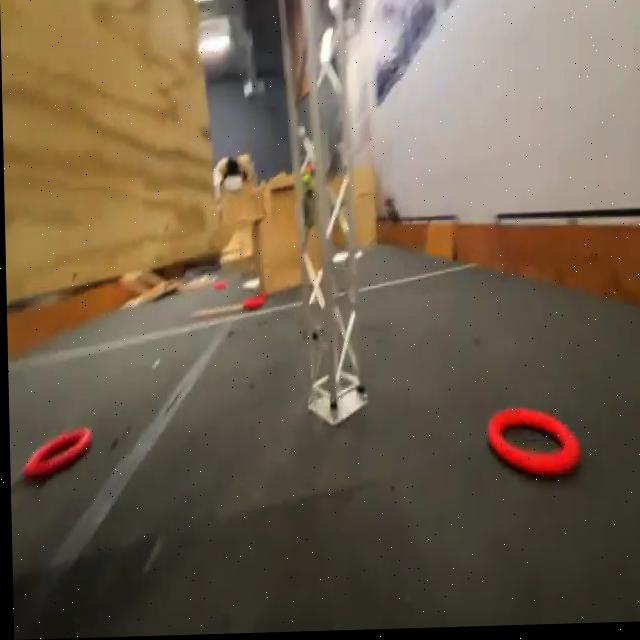note: (483, 412, 579, 484), (19, 420, 93, 488), (240, 294, 264, 314), (212, 282, 225, 292)
